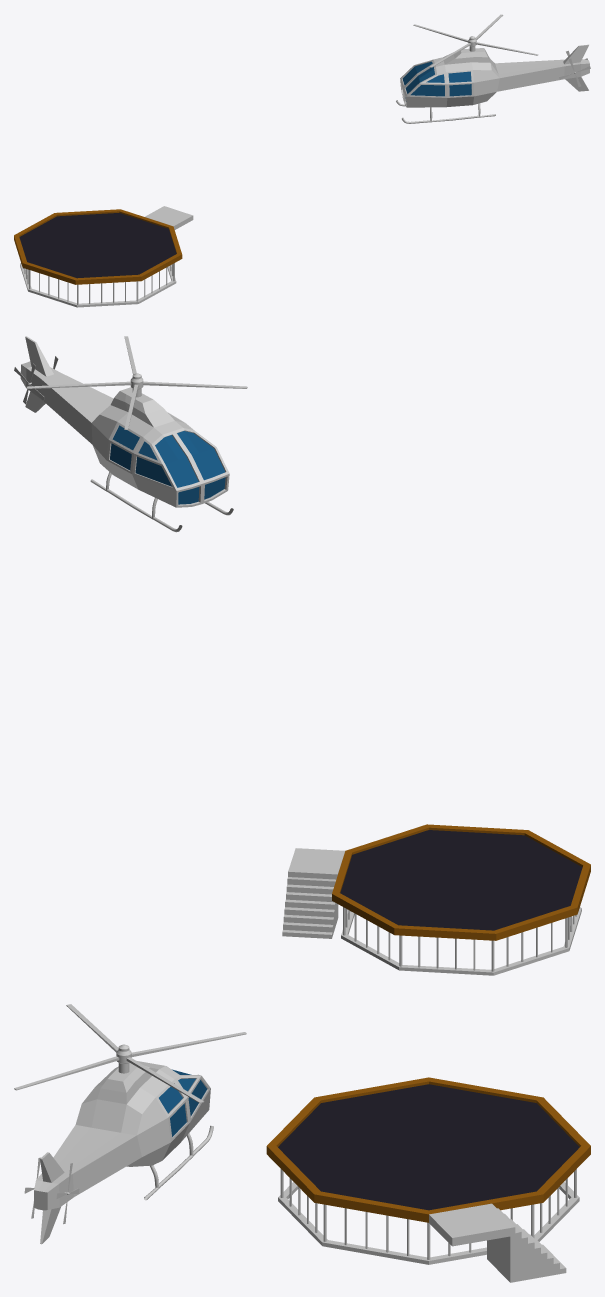
Rendered from copter_000155.obj.
3 renders of one model, top to bottom at view 1: azimuth 30°, elevation 25°; view 2: azimuth 150°, elevation 25°; view 3: azimuth 270°, elevation 25°, orthographic. The views are drawn at different scales.
Parts seen in each view (by area): view 1: Cylinder.001_Cylinder.012, Helicopter.007_Cylinder.008, Helicopter.001_Cylinder.001; view 2: Cylinder.001_Cylinder.012, Helicopter.007_Cylinder.008, Helicopter.001_Cylinder.001; view 3: Cylinder.001_Cylinder.012, Helicopter.007_Cylinder.008, Helicopter.001_Cylinder.001, Cylinder.004, Cylinder.002, Cylinder.003_Cylinder.005.
Boxes of the visible parts, x1,y1,x2,y2 form: Cylinder.001_Cylinder.012: (14, 206, 193, 307); Helicopter.007_Cylinder.008: (396, 44, 589, 123); Helicopter.001_Cylinder.001: (413, 14, 538, 67); Cylinder.001_Cylinder.012: (282, 824, 590, 975); Helicopter.007_Cylinder.008: (20, 336, 233, 532); Helicopter.001_Cylinder.001: (26, 336, 247, 429); Cylinder.001_Cylinder.012: (266, 1077, 590, 1282); Helicopter.007_Cylinder.008: (34, 1061, 213, 1244); Helicopter.001_Cylinder.001: (14, 1004, 246, 1103); Cylinder.004: (289, 1178, 567, 1232); Cylinder.002: (280, 1169, 576, 1259); Cylinder.003_Cylinder.005: (344, 1208, 512, 1256).
Bounding box in the file's own units: 20.91 × 9.72 × 12.05.
